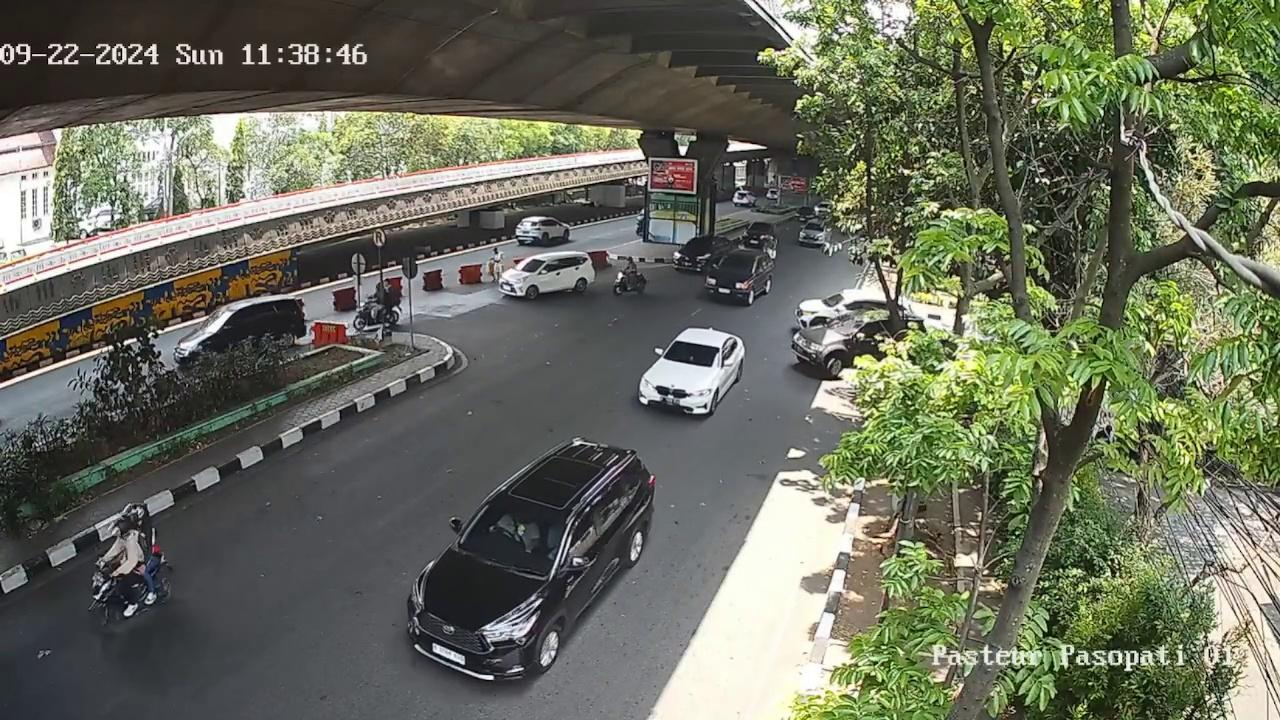pakai: (491, 510, 535, 558), (544, 523, 565, 561)
windshield: (456, 496, 574, 575), (661, 337, 722, 369), (719, 252, 757, 271)
